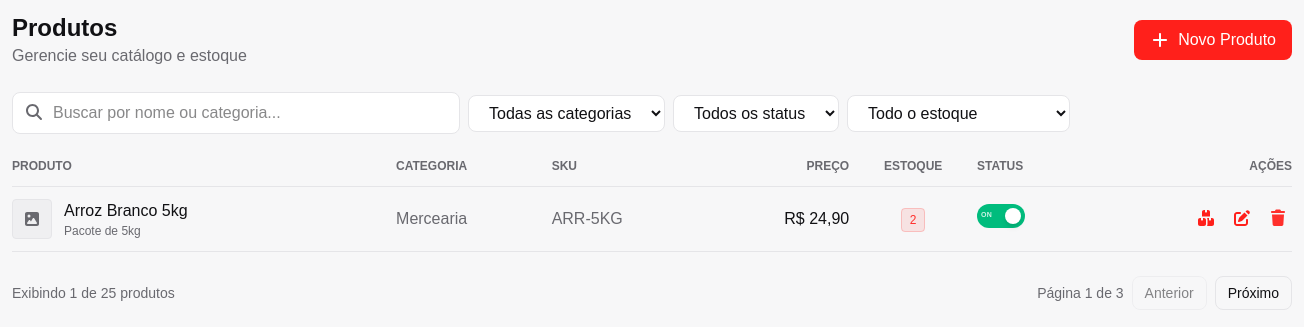
Test case: ProductsPage — paginação › reinicia a página atual ao mudar um filtro
This screenshot has width=1304, height=327.
Expected: the text "Arroz Branco 5kg" is shown, [64, 199, 188, 223]
Click the button "Próximo" at (1253, 293), box [1215, 276, 1292, 310]
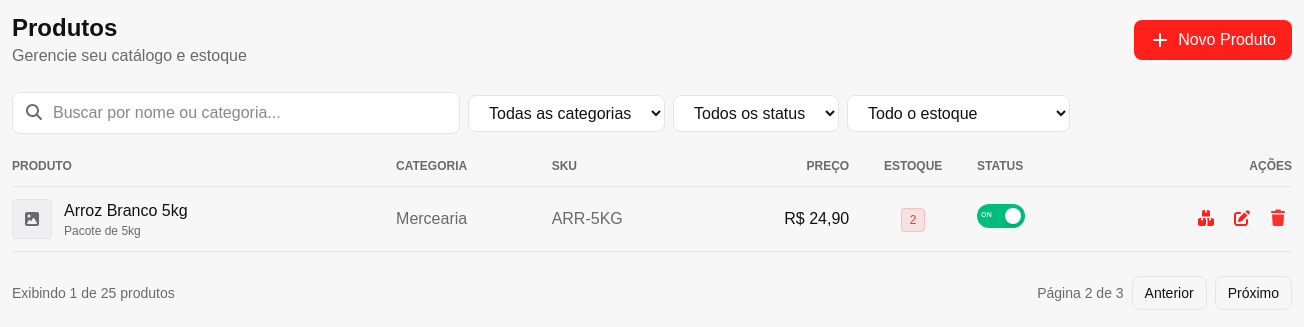
Select "Inativos" in the dropdown named "Filtrar por status" at (756, 113), box [673, 94, 839, 132]
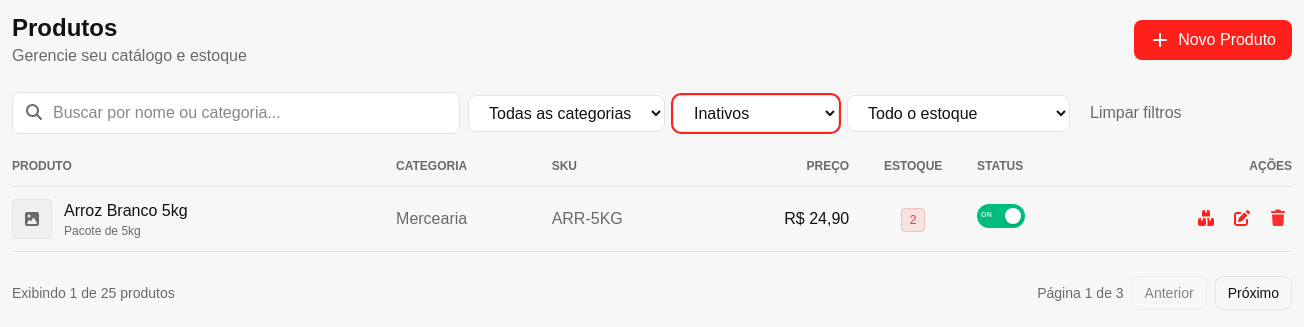
Now the text "Página 1 de 3" is shown, box [1037, 283, 1124, 303]
